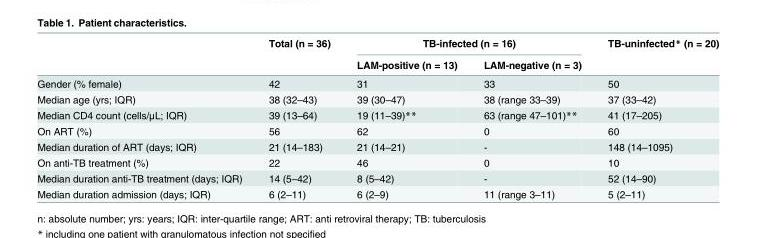table: (36, 36, 718, 199)
table column: (36, 36, 254, 199), (342, 36, 469, 199), (593, 36, 718, 199), (469, 36, 593, 199), (254, 36, 342, 199)
table column header: (36, 36, 718, 73)
table row: (36, 53, 718, 73), (36, 73, 718, 91), (36, 36, 718, 53), (36, 106, 718, 122), (36, 122, 718, 138), (36, 138, 718, 154), (36, 154, 718, 170), (36, 91, 718, 106), (36, 170, 718, 185), (36, 185, 718, 199)
table spanning cell: (593, 36, 718, 73), (342, 36, 593, 53), (254, 36, 342, 73)
